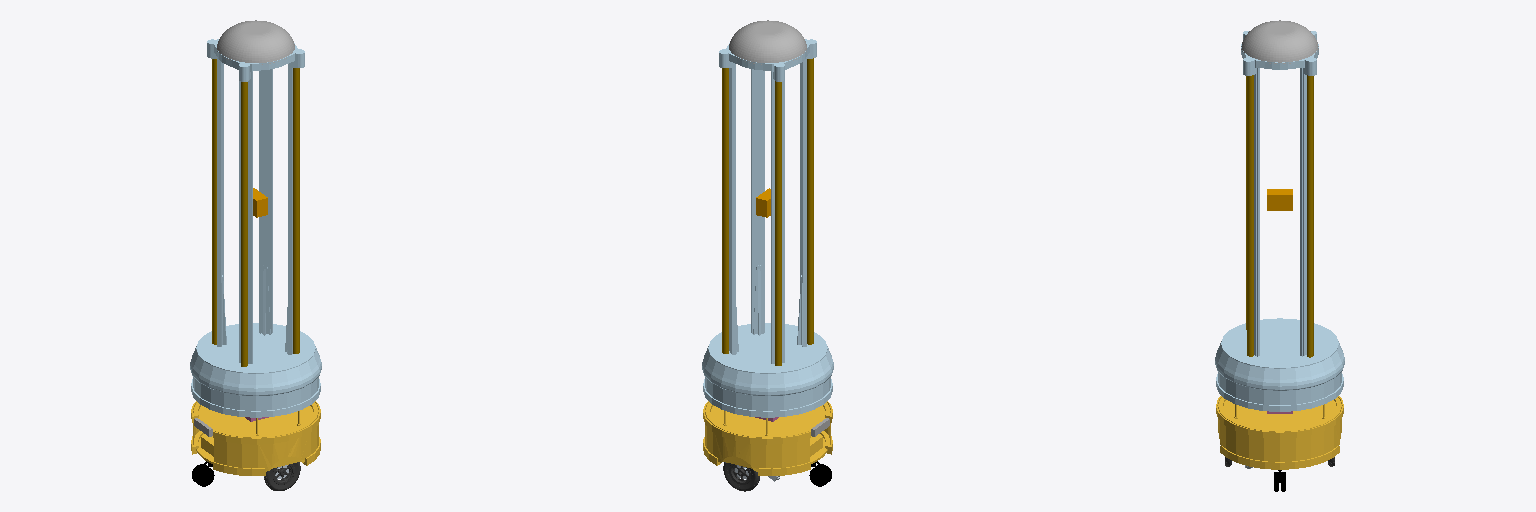
--- Render facts (derived) ---
The picture shows the robot from 3 angles, left to right: view 1: azimuth 30°, elevation 25°; view 2: azimuth 150°, elevation 25°; view 3: azimuth 270°, elevation 25°; orthographic projection.
Robot: onshape — 19 links, 18 joints (2 continuous, 16 fixed); root link base_footprint; default pose: every joint at zero.
Visible links, largest first — view 1: amr_completo_sim_superior, amr_completo_sim_inferior, domo_led, foco_uv, foco_uv_4, foco_uv_3, solo_rueda_lateral_2; view 2: amr_completo_sim_superior, amr_completo_sim_inferior, domo_led, foco_uv_2, foco_uv_4, foco_uv_3, solo_rueda_lateral; view 3: amr_completo_sim_superior, amr_completo_sim_inferior, domo_led, foco_uv_2, foco_uv, d435_link.
Boxes of the visible links, x1,y1,x2,y2 form: amr_completo_sim_superior: [190, 39, 321, 417]; amr_completo_sim_inferior: [191, 401, 320, 475]; domo_led: [217, 20, 294, 64]; foco_uv: [293, 68, 299, 353]; foco_uv_4: [241, 82, 247, 366]; foco_uv_3: [212, 59, 216, 344]; solo_rueda_lateral_2: [264, 462, 300, 490]; amr_completo_sim_superior: [702, 39, 833, 417]; amr_completo_sim_inferior: [703, 401, 832, 475]; domo_led: [729, 20, 806, 64]; foco_uv_2: [722, 68, 728, 353]; foco_uv_4: [807, 58, 813, 344]; foco_uv_3: [775, 81, 781, 365]; solo_rueda_lateral: [723, 462, 759, 491]; amr_completo_sim_superior: [1215, 31, 1344, 411]; amr_completo_sim_inferior: [1216, 396, 1343, 469]; domo_led: [1241, 20, 1318, 63]; foco_uv_2: [1307, 75, 1313, 357]; foco_uv: [1247, 75, 1253, 356]; d435_link: [1267, 189, 1292, 210].
Bounding box of the posed robot: 0.5296 × 0.4926 × 1.82 m (x, y, z).
Meshes: 7 distinct files referenced, 13 mesh visuals loaded (7 binary STL).

The robot description file, URDF, robot "onshape":
<robot name="onshape">

    <link name="base_footprint" />

    <link name="amr_completo_sim_inferior">
        <visual>
            <origin xyz="-0.000995628 0.000150356 -2.77464e-17" rpy="0 6.12323e-17 -1.5708" />
            <geometry>
                <mesh filename="package://arlobot_description/meshes/amr_completo_sim_inferior.stl" />
            </geometry>
            <material name="amr_completo_sim_inferior_material">
                <color rgba="0.980392 0.796078 0.262745 1.0" />
            </material>
        </visual>
        <collision>
            <origin xyz="-0.000995628 0.000150356 -2.77464e-17" rpy="0 6.12323e-17 -1.5708" />
            <geometry>
                <mesh filename="package://arlobot_description/meshes/amr_completo_sim_inferior.stl" />
            </geometry>
            <material name="amr_completo_sim_inferior_material">
                <color rgba="0.980392 0.796078 0.262745 1.0" />
            </material>
        </collision>
        <inertial>
            <origin xyz="0.0048504 0.00251063 0.0524257" rpy="0 0 0" />
            <mass value="10.3391" />
            <inertia ixx="0.207213" ixy="0.000194765" ixz="-0.00534026" iyy="0.242417" iyz="-0.000474959" izz="0.376237" />
        </inertial>
    </link>

    <joint name="base_joint" type="fixed">
        <parent link="base_footprint" />
        <child link="amr_completo_sim_inferior" />
        <origin xyz="0.0 0.0 0.115" rpy="0 0 3.1415" />
    </joint>

    <link name="ruedas_laterales">
        <visual>
            <origin xyz="-0.0252705 -0.035061 -0.0255295" rpy="-7.13488e-16 1.10751e-16 -1.52506e-48" />
            <geometry>
                <mesh filename="package://arlobot_description/meshes/ruedas_laterales.stl" />
            </geometry>
            <material name="ruedas_laterales_material">
                <color rgba="0.811765 0.858824 0.898039 1.0" />
            </material>
        </visual>
        <collision>
            <origin xyz="-0.0252705 -0.035061 -0.0255295" rpy="-7.13488e-16 1.10751e-16 -1.52506e-48" />
            <geometry>
                <mesh filename="package://arlobot_description/meshes/ruedas_laterales.stl" />
            </geometry>
            <material name="ruedas_laterales_material">
                <color rgba="0.811765 0.858824 0.898039 1.0" />
            </material>
        </collision>
        <inertial>
            <origin xyz="-0.00148981 0.0269936 -0.029183" rpy="0 0 0" />
            <mass value="0.816648" />
            <inertia ixx="0.000697575" ixy="-0.000310524" ixz="8.38163e-05" iyy="0.00161006" iyz="-4.40014e-05" izz="0.00172737" />
        </inertial>
    </link>

    <link name="solo_rueda_lateral">
        <visual>
            <origin xyz="-1.0842e-19 0 0" rpy="5.38062e-33 -1.7745e-33 8.25566e-20" />
            <geometry>
                <mesh filename="package://arlobot_description/meshes/solo_rueda_lateral.stl" />
            </geometry>
            <material name="solo_rueda_lateral_material">
                <color rgba="0.282353 0.282353 0.282353 1.0" />
            </material>
        </visual>
        <collision>
            <origin xyz="-1.0842e-19 0 0" rpy="5.38062e-33 -1.7745e-33 8.25566e-20" />
            <geometry>
                <cylinder length="0.03" radius="0.078" />
            </geometry>
            <material name="solo_rueda_lateral_material">
                <color rgba="0.282353 0.282353 0.282353 1.0" />
            </material>
        </collision>
        <inertial>
            <origin xyz="-0.000223609 -5.13895e-05 -1.39581e-05" rpy="0 0 0" />
            <mass value="0.14828" />
            <inertia ixx="0.000228496" ixy="-1.5779e-07" ixz="-9.52702e-08" iyy="0.000229548" iyz="-3.71736e-08" izz="0.00043763" />
        </inertial>
    </link>

    <joint name="link6" type="continuous">
        <origin xyz="-0.0252705 -0.035061 -0.0255295" rpy="-1.5708 -0.0012984 3.1415" />
        <parent link="ruedas_laterales" />
        <child link="solo_rueda_lateral" />
        <axis xyz="0 0 1" />
        <limit effort="9.6" velocity="95" />
        <joint_properties friction="0.0" />
    </joint>

    <joint name="link1" type="fixed">
        <origin xyz="0.0244044 -0.15987 -4.16334e-17" rpy="1.83697e-16 -0 3.08469e-49" />
        <parent link="amr_completo_sim_inferior" />
        <child link="ruedas_laterales" />
        <axis xyz="0 0 1" />
        <limit effort="1" velocity="20" />
        <joint_properties friction="0.0" />
    </joint>

    <link name="ruedas_laterales_2">
        <visual>
            <origin xyz="0.0255295 0.035061 0.0255295" rpy="3.14159 -2.92194e-31 -7.82495e-47" />
            <geometry>
                <mesh filename="package://arlobot_description/meshes/ruedas_laterales.stl" />
            </geometry>
            <material name="ruedas_laterales_material">
                <color rgba="0.811765 0.858824 0.898039 1.0" />
            </material>
        </visual>
        <collision>
            <origin xyz="0.0255295 0.035061 0.0255295" rpy="3.14159 -2.92194e-31 -7.82495e-47" />
            <geometry>
                <mesh filename="package://arlobot_description/meshes/ruedas_laterales.stl" />
            </geometry>
            <material name="ruedas_laterales_material">
                <color rgba="0.811765 0.858824 0.898039 1.0" />
            </material>
        </collision>
        <inertial>
            <origin xyz="0.0493102 -0.0269936 0.029183" rpy="0 0 0" />
            <mass value="0.816648" />
            <inertia ixx="0.000697575" ixy="0.000310524" ixz="-8.38163e-05" iyy="0.00161006" iyz="-4.40014e-05" izz="0.00172737" />
        </inertial>
    </link>

    <link name="solo_rueda_lateral_2">
        <visual>
            <origin xyz="2.1684e-19 0 0" rpy="8.77947e-32 -1.51973e-33 6.66121e-20" />
            <geometry>
                <mesh filename="package://arlobot_description/meshes/solo_rueda_lateral.stl" />
            </geometry>
            <material name="solo_rueda_lateral_material">
                <color rgba="0.282353 0.282353 0.282353 1.0" />
            </material>
        </visual>
        <collision>
            <origin xyz="2.1684e-19 0 0" rpy="8.77947e-32 -1.51973e-33 6.66121e-20" />
            <geometry>
                <cylinder length="0.03" radius="0.078" />
            </geometry>
            <material name="solo_rueda_lateral_material">
                <color rgba="0.282353 0.282353 0.282353 1.0" />
            </material>
        </collision>
        <inertial>
            <origin xyz="-0.000223609 -5.13895e-05 -1.39581e-05" rpy="0 0 0" />
            <mass value="0.14828" />
            <inertia ixx="0.000228496" ixy="-1.5779e-07" ixz="-9.52702e-08" iyy="0.000229548" iyz="-3.71736e-08" izz="0.00043763" />
        </inertial>
    </link>

    <joint name="link5" type="continuous">
        <origin xyz="0.0255295 0.035061 0.0255295" rpy="1.5708 -0.0012984 -6.03855e-17" />
        <parent link="ruedas_laterales_2" />
        <child link="solo_rueda_lateral_2" />
        <axis xyz="0 0 1" />
        <limit effort="9.6" velocity="95" />
        <joint_properties friction="0.0" />
    </joint>

    <joint name="link2" type="fixed">
        <origin xyz="0.0244044 0.16017 1.04083e-17" rpy="3.14159 3.94793e-30 3.14159" />
        <parent link="amr_completo_sim_inferior" />
        <child link="ruedas_laterales_2" />
        <axis xyz="0 0 1" />
        <limit effort="1" velocity="20" />
        <joint_properties friction="0.0" />
    </joint>

    <link name="caster_wheels">
        <visual>
            <origin xyz="-0.0201035 -1.51246e-17 -0.065278" rpy="1.5708 8.88178e-16 1.63156e-31" />
            <geometry>
                <mesh filename="package://arlobot_description/meshes/caster_wheels.stl" />
            </geometry>
            <material name="caster_wheels_material">
                <color rgba="0 0 0 1.0" />
            </material>
        </visual>
        <collision>
            <origin xyz="-0.0201035 -1.51246e-17 -0.065278" rpy="1.5708 8.88178e-16 1.63156e-31" />
            <geometry>
                <mesh filename="package://arlobot_description/meshes/caster_wheels.stl" />
            </geometry>
            <material name="caster_wheels_material">
                <color rgba="0 0 0 1.0" />
            </material>
        </collision>
        <inertial>
            <origin xyz="-0.0167272 -1.01188e-09 -0.0603183" rpy="0 0 0" />
            <mass value="0.202619" />
            <inertia ixx="0.000153663" ixy="-1.23305e-11" ixz="3.33247e-05" iyy="0.000206038" iyz="-2.12569e-10" izz="0.000129726" />
        </inertial>
    </link>

    <joint name="link3" type="fixed">
        <origin xyz="0.206141 0.000150422 -1.38778e-17" rpy="-1.83697e-16 4.14152e-30 -3.14159" />
        <parent link="amr_completo_sim_inferior" />
        <child link="caster_wheels" />
        <axis xyz="0 0 1" />
        <limit effort="1" velocity="20" />
        <joint_properties friction="0.0" />
    </joint>

    <link name="caster_wheels_2">
        <visual>
            <origin xyz="-0.0201035 -1.50975e-17 -0.065278" rpy="1.5708 8.88178e-16 -4.15179e-45" />
            <geometry>
                <mesh filename="package://arlobot_description/meshes/caster_wheels.stl" />
            </geometry>
            <material name="caster_wheels_material">
                <color rgba="0 0 0 1.0" />
            </material>
        </visual>
        <collision>
            <origin xyz="-0.0201035 -1.50975e-17 -0.065278" rpy="1.5708 8.88178e-16 -4.15179e-45" />
            <geometry>
                <mesh filename="package://arlobot_description/meshes/caster_wheels.stl" />
            </geometry>
            <material name="caster_wheels_material">
                <color rgba="0 0 0 1.0" />
            </material>
        </collision>
        <inertial>
            <origin xyz="-0.0167272 -1.01188e-09 -0.0603183" rpy="0 0 0" />
            <mass value="0.202619" />
            <inertia ixx="0.000153663" ixy="-1.23305e-11" ixz="3.33247e-05" iyy="0.000206038" iyz="-2.12569e-10" izz="0.000129726" />
        </inertial>
    </link>

    <joint name="link4" type="fixed">
        <origin xyz="-0.208133 0.000150422 -2.77556e-17" rpy="1.83697e-16 -1.99424e-27 1.43532e-27" />
        <parent link="amr_completo_sim_inferior" />
        <child link="caster_wheels_2" />
        <axis xyz="0 0 1" />
        <limit effort="1" velocity="20" />
        <joint_properties friction="0.0" />
    </joint>

    <link name="amr_completo_sim_superior">
        <visual>
            <origin xyz="-0.16536 -0.0901573 -0.0058" rpy="3.14159 -0 9.45457e-125" />
            <geometry>
                <mesh filename="package://arlobot_description/meshes/amr_completo_sim_superior.stl" />
            </geometry>
            <material name="amr_completo_sim_superior_material">
                <color rgba="0.768627 0.886275 0.952941 1.0" />
            </material>
        </visual>
        <collision>
            <origin xyz="-0.16536 -0.0901573 -0.0058" rpy="3.14159 -0 9.45457e-125" />
            <geometry>
                <mesh filename="package://arlobot_description/meshes/amr_completo_sim_superior.stl" />
            </geometry>
            <material name="amr_completo_sim_superior_material">
                <color rgba="0.768627 0.886275 0.952941 1.0" />
            </material>
        </collision>
        <inertial>
            <origin xyz="-0.165366 -0.0901601 -0.318895" rpy="0 0 0" />
            <mass value="22.7959" />
            <inertia ixx="4.9803" ixy="-2.09916e-05" ixz="3.71234e-05" iyy="4.98069" iyz="0.000251782" izz="0.746188" />
        </inertial>
    </link>

    <link name="foco_uv">
        <visual>
            <origin xyz="-1.38778e-17 -0.005 -0.59" rpy="0 -0 -6.40349e-49" />
            <geometry>
                <mesh filename="package://arlobot_description/meshes/foco_uv.stl" />
            </geometry>
            <material name="foco_uv_material">
                <color rgba="0.670588 0.529412 0 1.0" />
            </material>
        </visual>
        <collision>
            <origin xyz="-1.38778e-17 -0.005 -0.59" rpy="0 -0 -6.40349e-49" />
            <geometry>
                <mesh filename="package://arlobot_description/meshes/foco_uv.stl" />
            </geometry>
            <material name="foco_uv_material">
                <color rgba="0.670588 0.529412 0 1.0" />
            </material>
        </collision>
        <inertial>
            <origin xyz="-1.39733e-17 -0.005 -0.59" rpy="0 0 0" />
            <mass value="1.56695" />
            <inertia ixx="0.182053" ixy="-2.33154e-49" ixz="0" iyy="0.182053" iyz="0" izz="0.000132366" />
        </inertial>
    </link>

    <joint name="link8" type="fixed">
        <origin xyz="-0.0497979 -0.198649 -1.3468" rpy="3.14159 5.2381e-16 1.5708" />
        <parent link="amr_completo_sim_superior" />
        <child link="foco_uv" />
        <axis xyz="0 0 1" />
        <limit effort="1" velocity="20" />
        <joint_properties friction="0.0" />
    </joint>

    <link name="foco_uv_2">
        <visual>
            <origin xyz="0 0.005 -0.59" rpy="0 -0 -7.8041e-49" />
            <geometry>
                <mesh filename="package://arlobot_description/meshes/foco_uv.stl" />
            </geometry>
            <material name="foco_uv_material">
                <color rgba="0.670588 0.529412 0 1.0" />
            </material>
        </visual>
        <collision>
            <origin xyz="0 0.005 -0.59" rpy="0 -0 -7.8041e-49" />
            <geometry>
                <mesh filename="package://arlobot_description/meshes/foco_uv.stl" />
            </geometry>
            <material name="foco_uv_material">
                <color rgba="0.670588 0.529412 0 1.0" />
            </material>
        </collision>
        <inertial>
            <origin xyz="-9.55516e-20 0.005 -0.59" rpy="0 0 0" />
            <mass value="1.56695" />
            <inertia ixx="0.182053" ixy="-2.84151e-49" ixz="0" iyy="0.182053" iyz="0" izz="0.000132366" />
        </inertial>
    </link>

    <joint name="link9" type="fixed">
        <origin xyz="-0.273851 -0.20572 -1.3468" rpy="-3.14159 -8.92687e-16 -1.5708" />
        <parent link="amr_completo_sim_superior" />
        <child link="foco_uv_2" />
        <axis xyz="0 0 1" />
        <limit effort="1" velocity="20" />
        <joint_properties friction="0.0" />
    </joint>

    <link name="foco_uv_3">
        <visual>
            <origin xyz="0 0.005 -0.59" rpy="0 -0 6.26448e-48" />
            <geometry>
                <mesh filename="package://arlobot_description/meshes/foco_uv.stl" />
            </geometry>
            <material name="foco_uv_material">
                <color rgba="0.670588 0.529412 0 1.0" />
            </material>
        </visual>
        <collision>
            <origin xyz="0 0.005 -0.59" rpy="0 -0 6.26448e-48" />
            <geometry>
                <mesh filename="package://arlobot_description/meshes/foco_uv.stl" />
            </geometry>
            <material name="foco_uv_material">
                <color rgba="0.670588 0.529412 0 1.0" />
            </material>
        </collision>
        <inertial>
            <origin xyz="-9.55516e-20 0.005 -0.59" rpy="0 0 0" />
            <mass value="1.56695" />
            <inertia ixx="0.182053" ixy="2.28093e-48" ixz="0" iyy="0.182053" iyz="0" izz="0.000132366" />
        </inertial>
    </link>

    <joint name="link10" type="fixed">
        <origin xyz="-0.280923 0.018334 -1.3468" rpy="3.14159 7.14485e-16 1.5708" />
        <parent link="amr_completo_sim_superior" />
        <child link="foco_uv_3" />
        <axis xyz="0 0 1" />
        <limit effort="1" velocity="20" />
        <joint_properties friction="0.0" />
    </joint>

    <link name="foco_uv_4">
        <visual>
            <origin xyz="0 0.005 -0.59" rpy="0 -0 -2.43606e-48" />
            <geometry>
                <mesh filename="package://arlobot_description/meshes/foco_uv.stl" />
            </geometry>
            <material name="foco_uv_material">
                <color rgba="0.670588 0.529412 0 1.0" />
            </material>
        </visual>
        <collision>
            <origin xyz="0 0.005 -0.59" rpy="0 -0 -2.43606e-48" />
            <geometry>
                <mesh filename="package://arlobot_description/meshes/foco_uv.stl" />
            </geometry>
            <material name="foco_uv_material">
                <color rgba="0.670588 0.529412 0 1.0" />
            </material>
        </collision>
        <inertial>
            <origin xyz="-9.55516e-20 0.005 -0.59" rpy="0 0 0" />
            <mass value="1.56695" />
            <inertia ixx="0.182053" ixy="-8.8698e-49" ixz="0" iyy="0.182053" iyz="0" izz="0.000132366" />
        </inertial>
    </link>

    <joint name="link11" type="fixed">
        <origin xyz="-0.0568689 0.025405 -1.3468" rpy="-3.14159 2.84276e-16 1.5708" />
        <parent link="amr_completo_sim_superior" />
        <child link="foco_uv_4" />
        <axis xyz="0 0 1" />
        <limit effort="1" velocity="20" />
        <joint_properties friction="0.0" />
    </joint>

    <link name="domo_led">
        <visual>
            <origin xyz="0 0 0.0058717" rpy="3.14159 -0 1.37008e-47" />
            <geometry>
                <mesh filename="package://arlobot_description/meshes/domo_led.stl" />
            </geometry>
            <material name="domo_led_material">
                <color rgba="0.717647 0.717647 0.717647 1.0" />
            </material>
        </visual>
        <collision>
            <origin xyz="0 0 0.0058717" rpy="3.14159 -0 1.37008e-47" />
            <geometry>
                <mesh filename="package://arlobot_description/meshes/domo_led.stl" />
            </geometry>
            <material name="domo_led_material">
                <color rgba="0.717647 0.717647 0.717647 1.0" />
            </material>
        </collision>
        <inertial>
            <origin xyz="6.20612e-17 -3.17266e-17 -0.0412001" rpy="0 0 0" />
            <mass value="0.307775" />
            <inertia ixx="0.00215876" ixy="-5.91536e-50" ixz="0" iyy="0.00215876" iyz="0" izz="0.00394031" />
        </inertial>

    </link>

    <joint name="link12" type="fixed">
        <origin xyz="-0.16536 -0.0901572 -1.4068" rpy="2.0574e-16 5.98295e-16 1.5708" />
        <parent link="amr_completo_sim_superior" />
        <child link="domo_led" />
        <axis xyz="0 0 1" />
        <limit effort="1" velocity="20" />
        <joint_properties friction="0.0" />
    </joint>

    <joint name="link7" type="fixed">
        <origin xyz="0.0891744 0.165504 0.235" rpy="3.14159 -1.83697e-16 1.5708" />
        <parent link="amr_completo_sim_inferior" />
        <child link="amr_completo_sim_superior" />
        <axis xyz="0 0 1" />
        <limit effort="1" velocity="20" />
        <joint_properties friction="0.0" />
    </joint>


    <link name="laser_link">
        <visual>
            <origin xyz="0 0 0" rpy="0 0 0" />
            <geometry>
                <box size="0.1 0.1 0.07" />
            </geometry>
        </visual>
    </link>

    <link name="t265_link">
        <visual>
            <origin xyz="0 0 0" rpy="0 0 0" />
            <geometry>
                <box size="0.015 0.113 0.03" />
            </geometry>
        </visual>
    </link>

    <joint name="laser_joint" type="fixed">
        <origin xyz="0 0 0.27955" rpy="0 0 0" />
        <parent link="base_footprint" />
        <child link="laser_link" />
        <!-- <axis xyz="0 0 1"/>
        <limit effort="1" velocity="20" />
        <joint_properties friction="0.0"/> -->
    </joint>

    <link name="d435_link">
        <visual>
            <origin xyz="0 0 0" rpy="0 0 0" />
            <geometry>
                <box size="0.05 0.1 0.07" />
            </geometry>
        </visual>
    </link>


    <joint name="d435_joint" type="fixed">
        <origin xyz="0 0 1" rpy="0 0 3.14" />
        <parent link="amr_completo_sim_inferior" />
        <child link="d435_link" />
        <!-- <axis xyz="0 0 1"/>
        <limit effort="1" velocity="20" />
        <joint_properties friction="0.0"/> -->
    </joint>

    <joint name="t265_joint" type="fixed">
        <origin xyz="-0.2248 0 0.2459" rpy="0 0 0" />
        <parent link="base_footprint" />
        <child link="t265_link" />
        <!-- <axis xyz="0 0 1"/>
        <limit effort="1" velocity="20" />
        <joint_properties friction="0.0"/> -->
    </joint>

    <link name="depth_camera_link">
        <origin xyz="0 0 0" rpy="0 0 0" />
    </link>

    <joint name="depth_camera_joint" type="fixed">
        <origin xyz="0 0 0" rpy="-1.57 0 -1.57" />
        <parent link="d435_link" />
        <child link="depth_camera_link" />
        <!-- <axis xyz="0 0 1"/>
        <limit effort="1" velocity="20" />
        <joint_properties friction="0.0"/> -->
    </joint>

    <link name="imu_link" />

    <joint name="imu_joint" type="fixed">
        <origin xyz="0 0 1.5" rpy="0 0 0" />
        <parent link="amr_completo_sim_inferior" />
        <child link="imu_link" />
        <!-- <axis xyz="0 0 1"/>
        <limit effort="1" velocity="20" />
        <joint_properties friction="0.0"/> -->
    </joint>

    <!-- Everything related to gazebo -->

    <gazebo reference="solo_rueda_lateral">
        <mu1>1.6</mu1>
        <mu2>1.6</mu2>
        <kp>500000.0</kp>
        <kd>10.0</kd>
        <minDepth>0.001</minDepth>
        <maxVel>1</maxVel>
        <fdir1>1 0 0</fdir1>
        <material>Gazebo/FlatBlack</material>
    </gazebo>

    <gazebo reference="solo_rueda_lateral_2">
        <mu1>1.6</mu1>
        <mu2>1.6</mu2>
        <kp>500000.0</kp>
        <kd>10.0</kd>
        <minDepth>0.001</minDepth>
        <maxVel>1</maxVel>
        <fdir1>1 0 0</fdir1>
        <material>Gazebo/FlatBlack</material>
    </gazebo>

    <gazebo reference="caster_wheels">
        <mu1>0.001</mu1>
        <mu2>0.001</mu2>
        <kp>500000.0</kp>
        <kd>10.0</kd>
        <minDepth>0.001</minDepth>
        <maxVel>1</maxVel>
        <fdir1>1 0 0</fdir1>
        <material>Gazebo/FlatBlack</material>
    </gazebo>


    <gazebo reference="caster_wheels_2">
        <mu1>0.001</mu1>
        <mu2>0.001</mu2>
        <kp>500000.0</kp>
        <kd>10.0</kd>
        <minDepth>0.001</minDepth>
        <maxVel>1</maxVel>
        <fdir1>1 0 0</fdir1>
        <material>Gazebo/FlatBlack</material>
    </gazebo>


    <gazebo reference="domo_led">
        <mu1>0.001</mu1>
        <mu2>0.001</mu2>
        <kp>500000.0</kp>
        <kd>10.0</kd>
        <minDepth>0.001</minDepth>
        <maxVel>1</maxVel>
        <fdir1>1 0 0</fdir1>
        <material>Gazebo/Blue</material>
    </gazebo>

    <gazebo reference="amr_completo_sim_inferior">
        <mu1>0.001</mu1>
        <mu2>0.001</mu2>
        <kp>500000.0</kp>
        <kd>10.0</kd>
        <minDepth>0.001</minDepth>
        <maxVel>1</maxVel>
        <fdir1>1 0 0</fdir1>
        <material>Gazebo/Turquoise</material>
    </gazebo>

    <gazebo reference="amr_completo_sim_superior">
        <mu1>0.001</mu1>
        <mu2>0.001</mu2>
        <kp>500000.0</kp>
        <kd>10.0</kd>
        <minDepth>0.001</minDepth>
        <maxVel>1</maxVel>
        <fdir1>1 0 0</fdir1>
        <material>Gazebo/Grey</material>
    </gazebo>

    <gazebo reference="foco_uv">
        <mu1>0.001</mu1>
        <mu2>0.001</mu2>
        <kp>500000.0</kp>
        <kd>10.0</kd>
        <minDepth>0.001</minDepth>
        <maxVel>1</maxVel>
        <fdir1>1 0 0</fdir1>
        <material>Gazebo/Purple</material>
    </gazebo>

    <gazebo reference="foco_uv_2">
        <mu1>0.001</mu1>
        <mu2>0.001</mu2>
        <kp>500000.0</kp>
        <kd>10.0</kd>
        <minDepth>0.001</minDepth>
        <maxVel>1</maxVel>
        <fdir1>1 0 0</fdir1>
        <material>Gazebo/Purple</material>
    </gazebo>

    <gazebo reference="foco_uv_3">
        <mu1>0.001</mu1>
        <mu2>0.001</mu2>
        <kp>500000.0</kp>
        <kd>10.0</kd>
        <minDepth>0.001</minDepth>
        <maxVel>1</maxVel>
        <fdir1>1 0 0</fdir1>
        <material>Gazebo/Purple</material>
    </gazebo>

    <gazebo reference="foco_uv_4">
        <mu1>0.001</mu1>
        <mu2>0.001</mu2>
        <kp>500000.0</kp>
        <kd>10.0</kd>
        <minDepth>0.001</minDepth>
        <maxVel>1</maxVel>
        <fdir1>1 0 0</fdir1>
        <material>Gazebo/Purple</material>
    </gazebo>

    <!-- diff drive -->
    <gazebo>
        <plugin name="turtlebot3_burger_controller" filename="libgazebo_ros_diff_drive.so">
            <commandTopic>cmd_vel</commandTopic>
            <odometryTopic>odom</odometryTopic>
            <odometryFrame>odom</odometryFrame>
            <odometrySource>world</odometrySource>
            <publishOdomTF>false</publishOdomTF>
            <robotBaseFrame>base_footprint</robotBaseFrame>
            <publishWheelTF>false</publishWheelTF>
            <publishTf>true</publishTf>
            <publishWheelJointState>true</publishWheelJointState>
            <legacyMode>false</legacyMode>
            <updateRate>30</updateRate>
            <leftJoint>link6</leftJoint>
            <rightJoint>link5</rightJoint>
            <wheelSeparation>0.3902</wheelSeparation>
            <wheelDiameter>0.156</wheelDiameter>
            <wheelAcceleration>1</wheelAcceleration>
            <wheelTorque>9.6</wheelTorque>
            <rosDebugLevel>na</rosDebugLevel>
        </plugin>
    </gazebo>

    <!-- lidar -->
    <gazebo reference="laser_link">
        <material>Gazebo/SkyBlue</material>
        <sensor type="ray" name="lds_lfcd_sensor">
            <pose>0 0 0 0 0 0</pose>
            <visualize>false</visualize>
            <update_rate>5.5</update_rate>
            <ray>
                <scan>
                    <horizontal>
                        <samples>360</samples>
                        <resolution>1</resolution>
                        <min_angle>0.0</min_angle>
                        <max_angle>6.28319</max_angle>
                    </horizontal>
                </scan>
                <range>
                    <min>0.15</min>
                    <max>12</max>
                    <resolution>0.015</resolution>
                </range>
                <noise>
                    <type>gaussian</type>
                    <mean>0.0</mean>
                    <stddev>0.01</stddev>
                </noise>
            </ray>
            <plugin name="gazebo_ros_lds_lfcd_controller" filename="libgazebo_ros_laser.so">
                <topicName>scan</topicName>
                <frameName>laser_link</frameName>
            </plugin>
        </sensor>
    </gazebo>

    <!-- depth camera -->
    <gazebo reference="d435_link">
        <material>Gazebo/Indigo</material>
        <sensor type="depth" name="realsense_R200">
            <always_on>true</always_on>
            <visualize>false</visualize>
            <camera>
                <horizontal_fov>1.5184</horizontal_fov>
                <image>
                    <width>470</width>
                    <height>270</height>
                    <format>R8G8B8</format>
                </image>
                <depth_camera></depth_camera>
                <clip>
                    <near>0.03</near>
                    <far>4</far>
                </clip>
            </camera>
            <plugin name="camera_controller" filename="libgazebo_ros_openni_kinect.so">
                <baseline>0.2</baseline>
                <alwaysOn>true</alwaysOn>
                <updateRate>15.0</updateRate>
                <cameraName>d435</cameraName>
                <frameName>depth_camera_link</frameName>
                <imageTopicName>rgb/image_raw</imageTopicName>
                <depthImageTopicName>depth/image_raw</depthImageTopicName>
                <pointCloudTopicName>depth/points</pointCloudTopicName>
                <cameraInfoTopicName>rgb/camera_info</cameraInfoTopicName>
                <depthImageCameraInfoTopicName>depth/camera_info</depthImageCameraInfoTopicName>
                <pointCloudCutoff>0.4</pointCloudCutoff>
                <hackBaseline>0.07</hackBaseline>
                <distortionK1>0.0</distortionK1>
                <distortionK2>0.0</distortionK2>
                <distortionK3>0.0</distortionK3>
                <distortionT1>0.0</distortionT1>
                <distortionT2>0.0</distortionT2>
                <CxPrime>0.0</CxPrime>
                <Cx>0.0</Cx>
                <Cy>0.0</Cy>
                <focalLength>0</focalLength>
                <hackBaseline>0</hackBaseline>
            </plugin>
        </sensor>
    </gazebo>


    <!-- imu -->
    <gazebo>
        <plugin name="imu_plugin" filename="libgazebo_ros_imu.so">
            <alwaysOn>true</alwaysOn>
            <bodyName>imu_link</bodyName>
            <frameName>imu_link</frameName>
            <topicName>imu</topicName>
            <serviceName>imu_service</serviceName>
            <gaussianNoise>0.0</gaussianNoise>
            <updateRate>30</updateRate>
            <imu>
                <noise>
                    <type>gaussian</type>
                    <rate>
                        <mean>0.0</mean>
                        <stddev>2e-4</stddev>
                        <bias_mean>0.0000075</bias_mean>
                        <bias_stddev>0.0000008</bias_stddev>
                    </rate>
                    <accel>
                        <mean>0.0</mean>
                        <stddev>1.7e-2</stddev>
                        <bias_mean>0.1</bias_mean>
                        <bias_stddev>0.001</bias_stddev>
                    </accel>
                </noise>
            </imu>
        </plugin>
    </gazebo>

    <gazebo reference="link5">
        <provideFeedback>true</provideFeedback>
    </gazebo>

    <gazebo reference="link6">
        <provideFeedback>true</provideFeedback>
    </gazebo>

    <!-- The ft_sensor plugin -->
    <gazebo>
        <plugin name="ft_sensor" filename="libgazebo_ros_ft_sensor.so">
            <updateRate>100.0</updateRate>
            <topicName>ft_sensor_llanta_izquierda</topicName>
            <jointName>link5</jointName>
        </plugin>
    </gazebo>
    <gazebo>
        <plugin name="ft_sensor" filename="libgazebo_ros_ft_sensor.so">
            <updateRate>100.0</updateRate>
            <topicName>ft_sensor_llanta_derecha</topicName>
            <jointName>link6</jointName>
        </plugin>
    </gazebo>


</robot>
